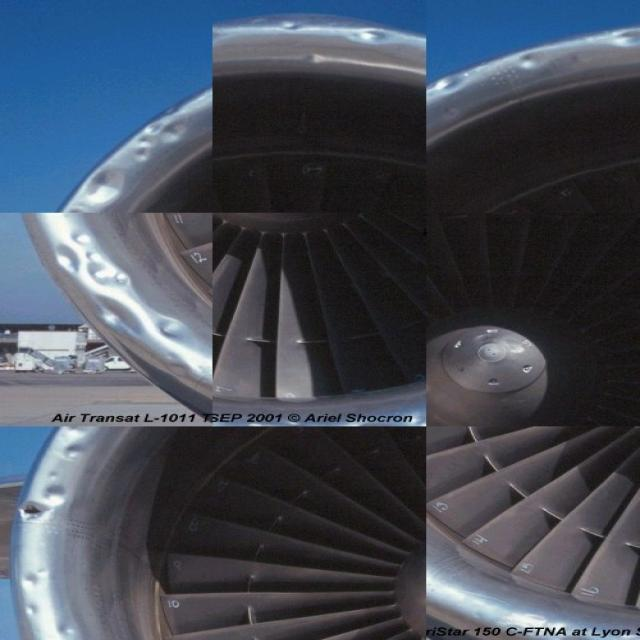dent: (79, 117, 198, 202), (44, 228, 133, 293), (92, 289, 156, 343)
